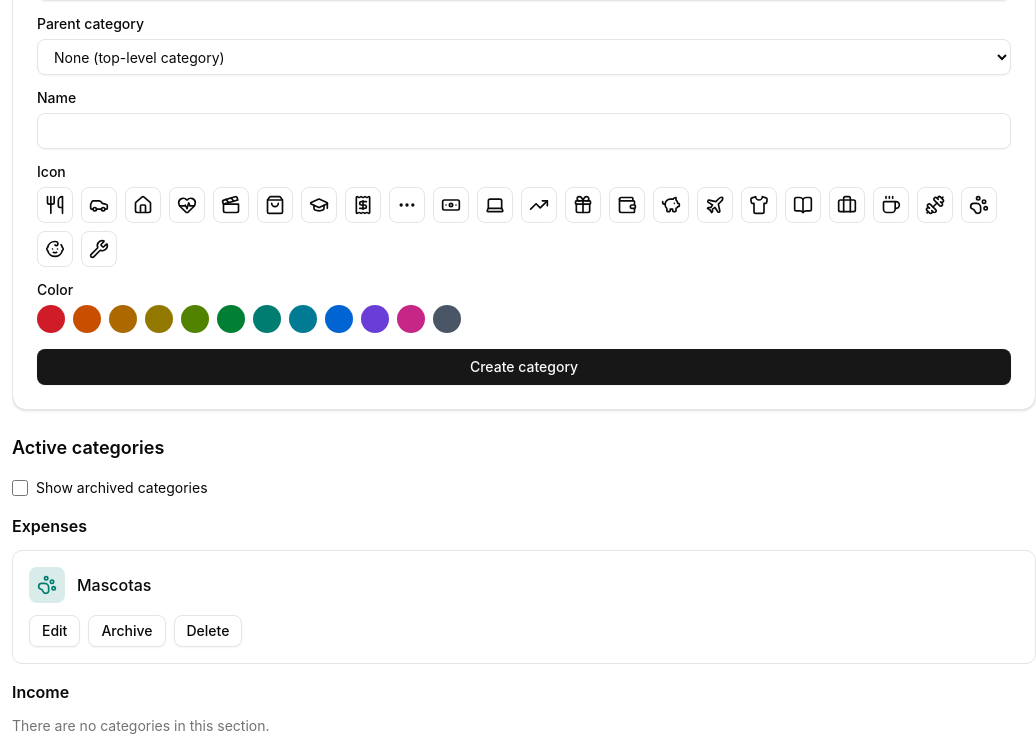
it: CategoriesContainer › shows an unreachable API during an action in an alert and keeps the row
This screenshot has width=1036, height=736.
(page scrolled)
Click the button named "Archive Mascotas" at point(127, 631), box [88,615,166,647]
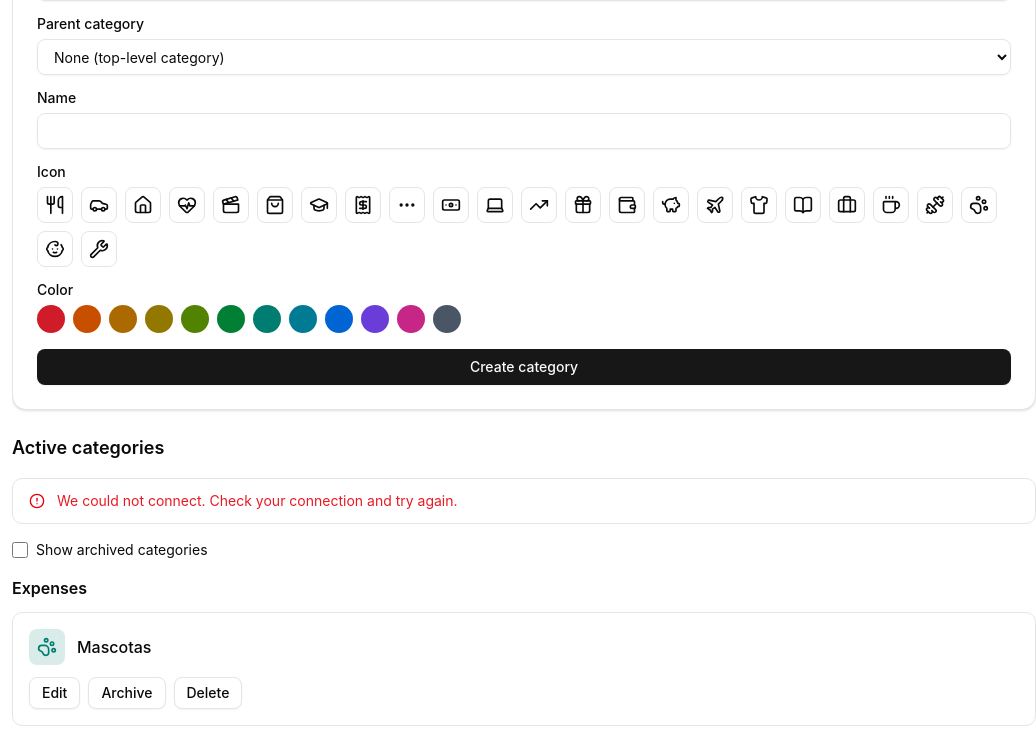
Expected: the list item "Mascotas" is shown, [12,612,1035,726]
Expected: the message reads "We could not connect. Check your connection and try again.", [57,492,458,509]
